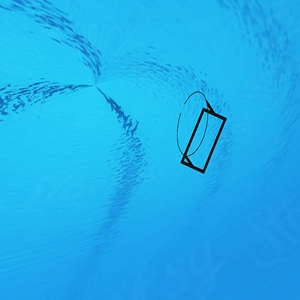circle: (169, 87, 229, 175)
